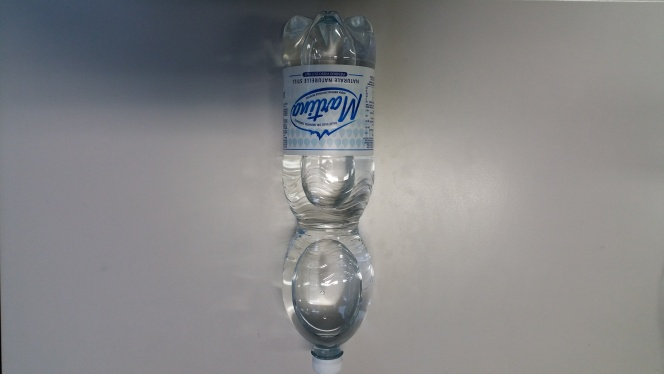bottle: (272, 11, 387, 371)
